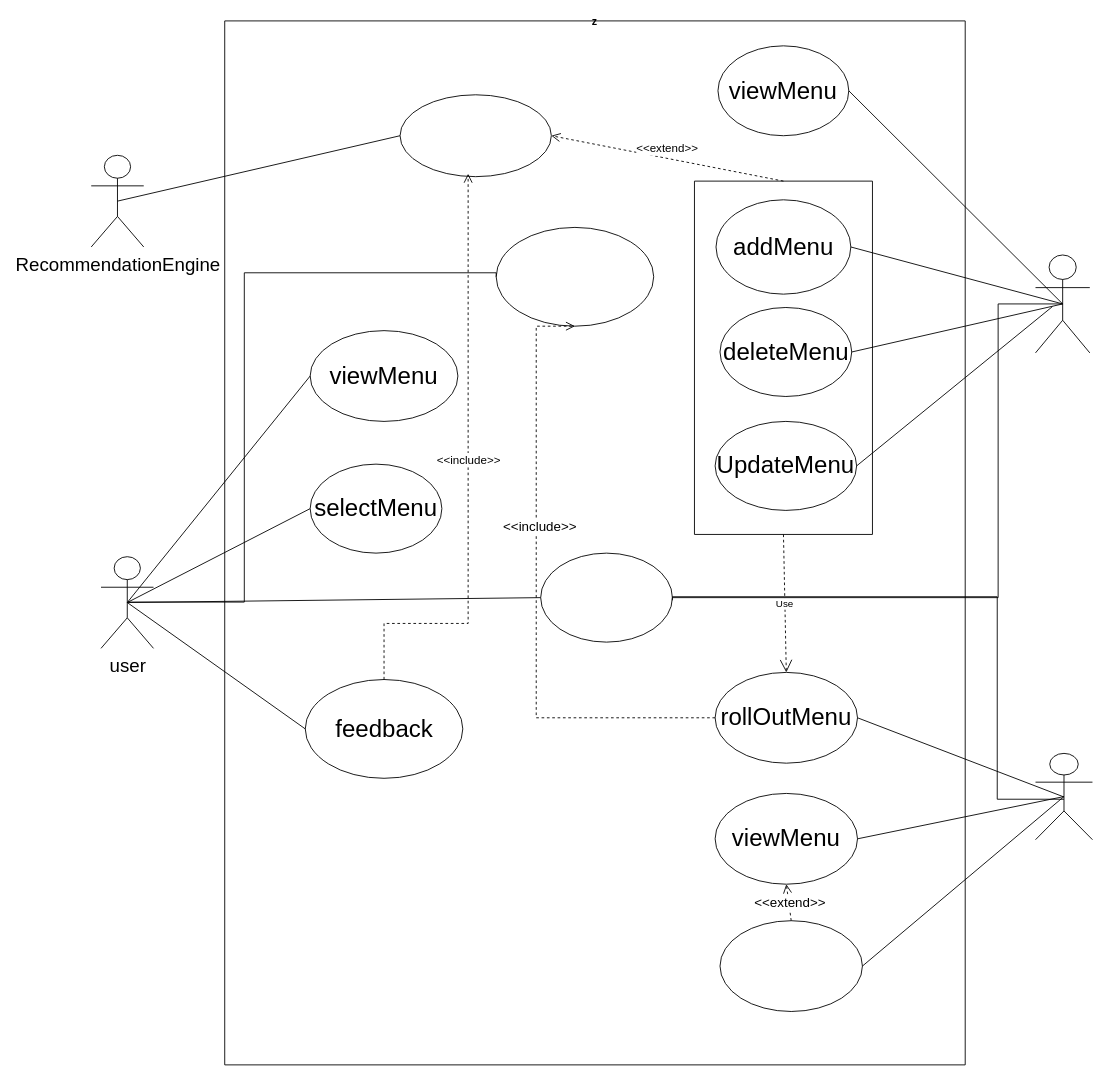
The diagram is 1108 pixels wide and 1080 high, and some of its shapes have lost their labels. Each missing label, with the centre of its shape:
Admin: pixel 1062 303
Chef: pixel 1063 796
login: pixel 606 597
notification: pixel 574 276
recommended Item: pixel 475 135
view Feedback: pixel 790 965
